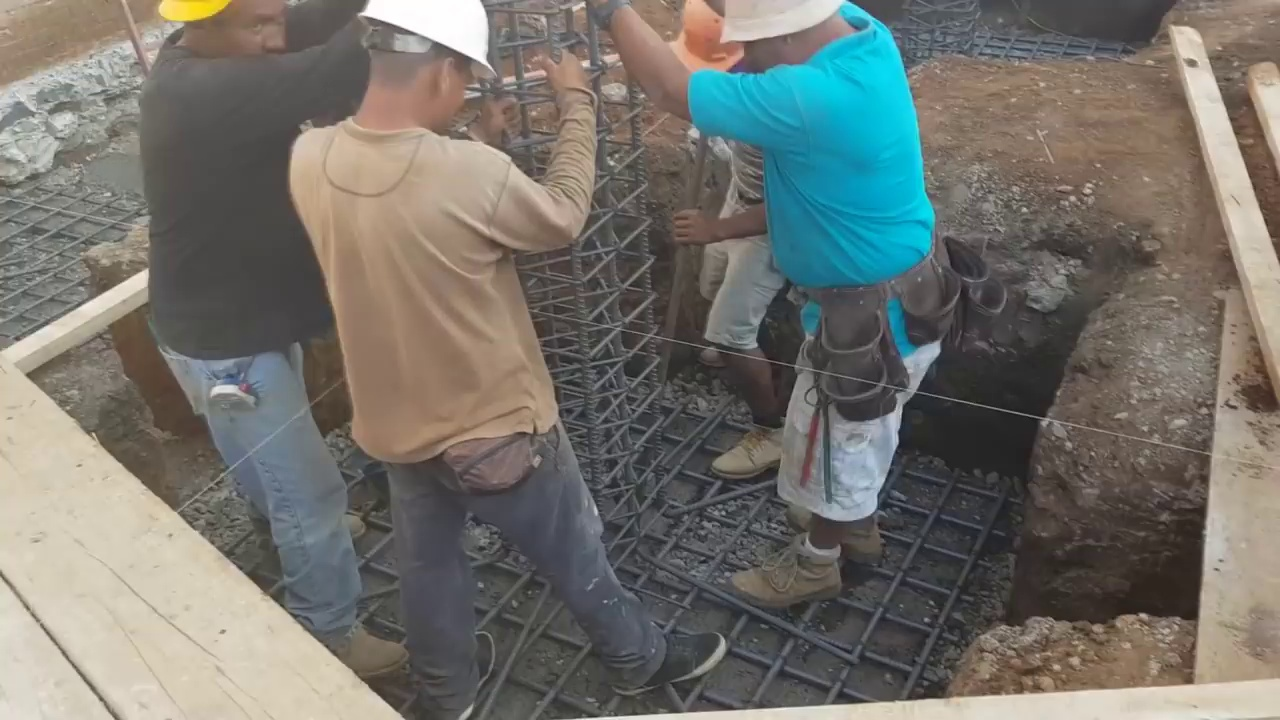helmet: (353, 0, 490, 68), (666, 1, 745, 80)
helmet-off: (718, 0, 878, 82), (164, 0, 288, 63)
helmet-on: (352, 0, 490, 144)
person: (288, 0, 731, 715), (585, 0, 930, 592), (140, 0, 427, 684), (670, 14, 796, 484)
